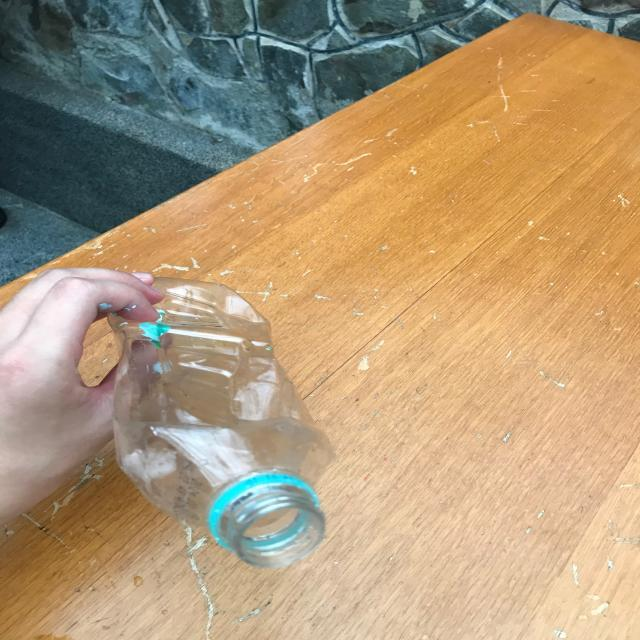plastic_bottle: (114, 275, 335, 567)
